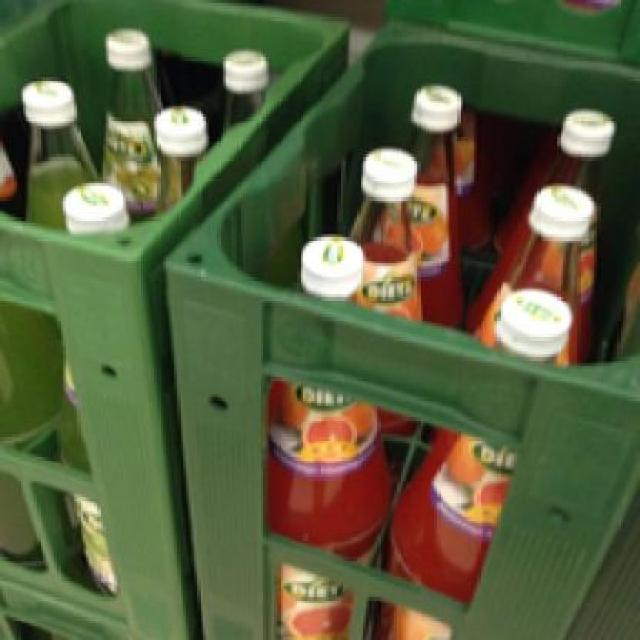Juice: (380, 277, 569, 637), (260, 232, 380, 632)
